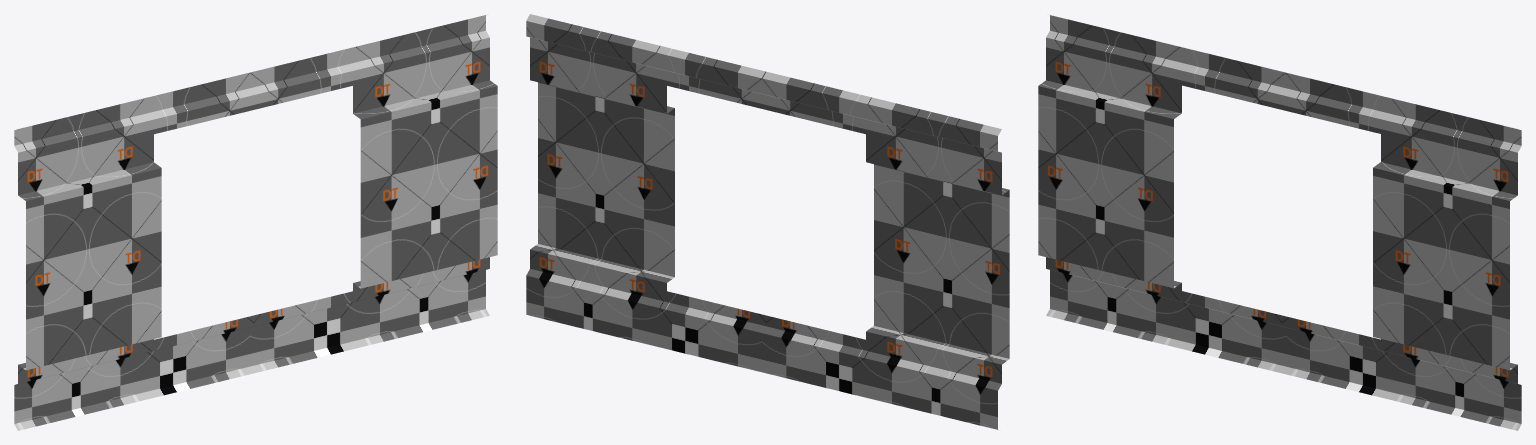
The model's file is UnderFloor_Hole.FBX.
3 renders of one model, left to right at view 1: azimuth 30°, elevation 25°; view 2: azimuth 150°, elevation 25°; view 3: azimuth 330°, elevation 25°, orthographic.
Parts seen in each view (by area): view 1: Object36170; view 2: Object36170; view 3: Object36170.
Boxes of the visible parts, x1,y1,x2,y2 form: Object36170: (14, 15, 497, 430); Object36170: (526, 14, 1009, 429); Object36170: (1038, 15, 1521, 430).
Size of the model in its own units: 96.63 by 59.05 by 4.15.
1 material, 1 textured.
